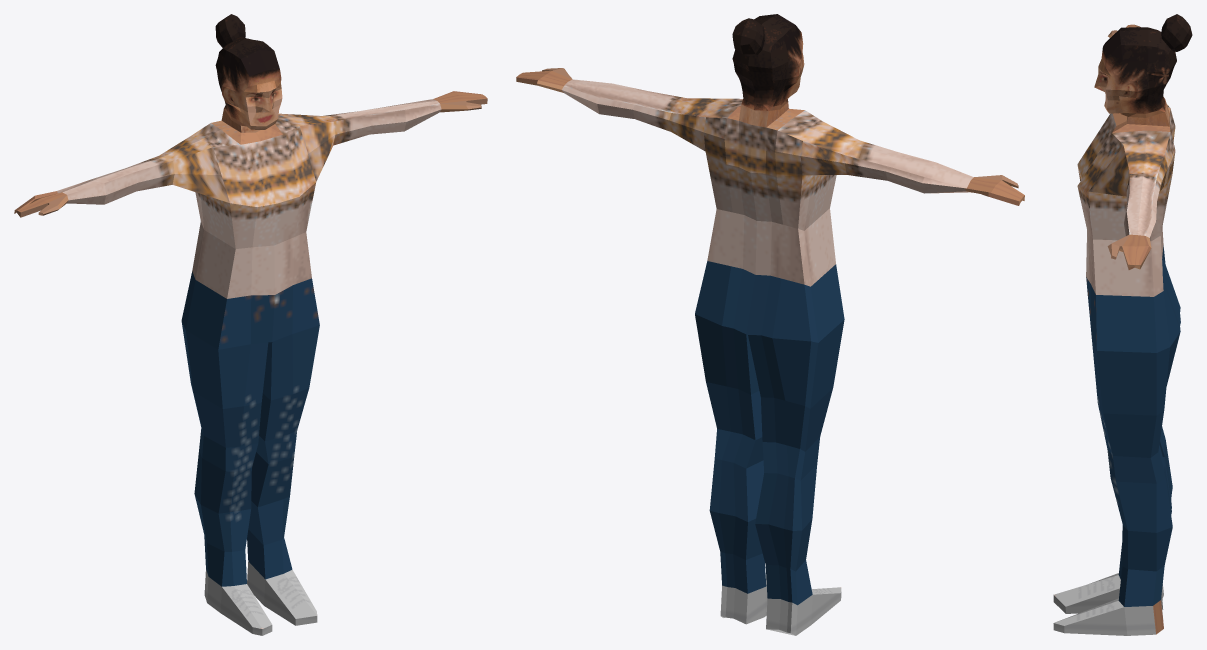
The model's file is NPC3.fbx.
The picture shows the model from 3 angles, left to right: view 1: azimuth 30°, elevation 25°; view 2: azimuth 150°, elevation 25°; view 3: azimuth 270°, elevation 25°; orthographic projection. The views are drawn at different scales.
Parts seen in each view (by area): view 1: Cube.001; view 2: Cube.001; view 3: Cube.001.
Boxes of the visible parts, x1,y1,x2,y2 form: Cube.001: (14,14,487,635); Cube.001: (516,14,1024,635); Cube.001: (1053,14,1192,635).
Bounding box in the file's own units: 431 × 506 × 105.
